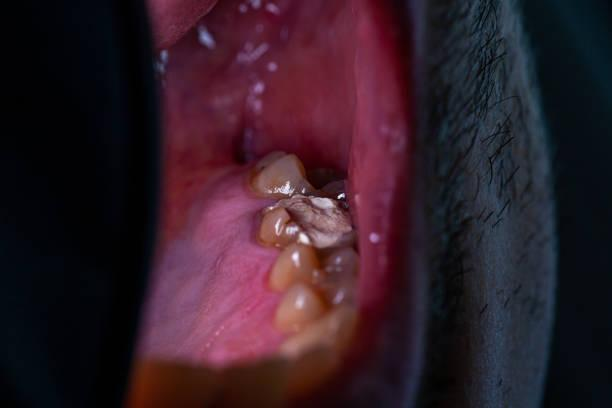Caries: (272, 189, 356, 246)
